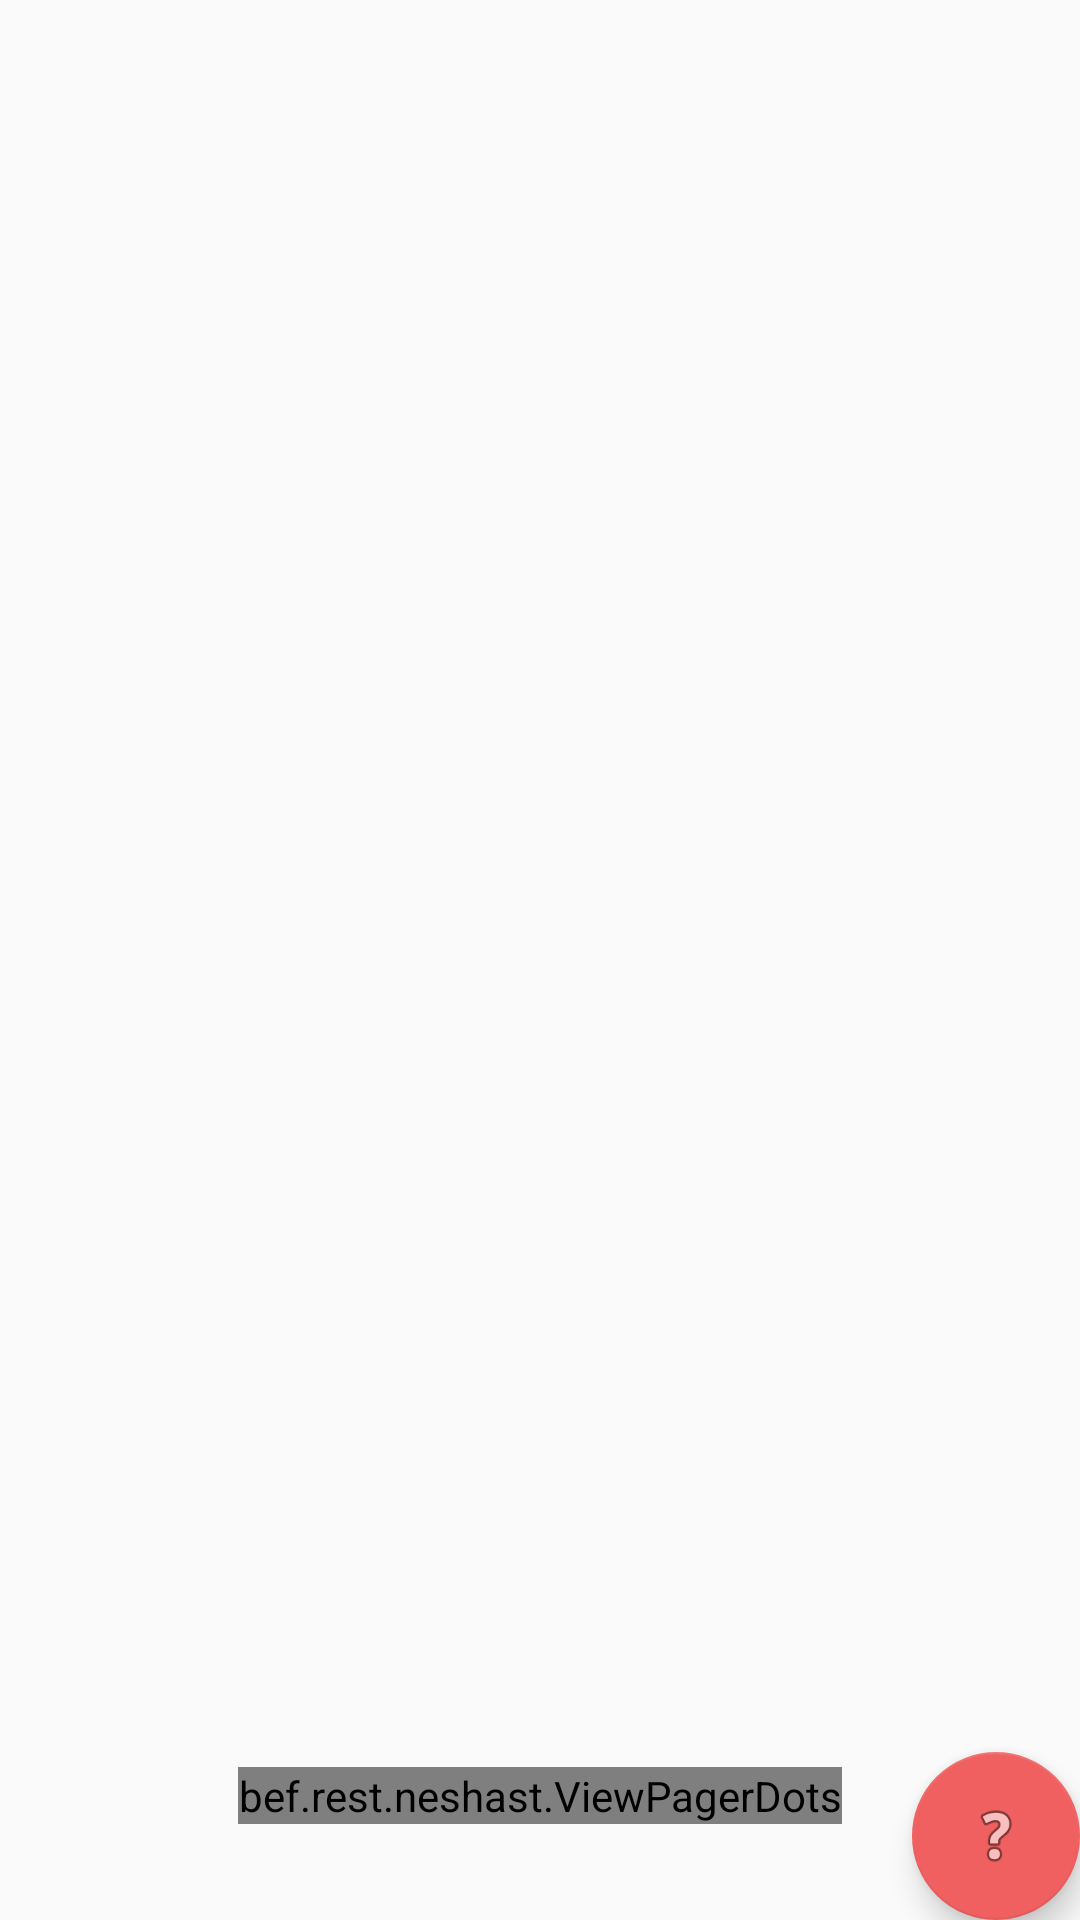

Icon bounding boxes for this 1080x1920 phone screenshot, format [x1, y1, x2, y2]:
help: [912, 1752, 1080, 1920]
